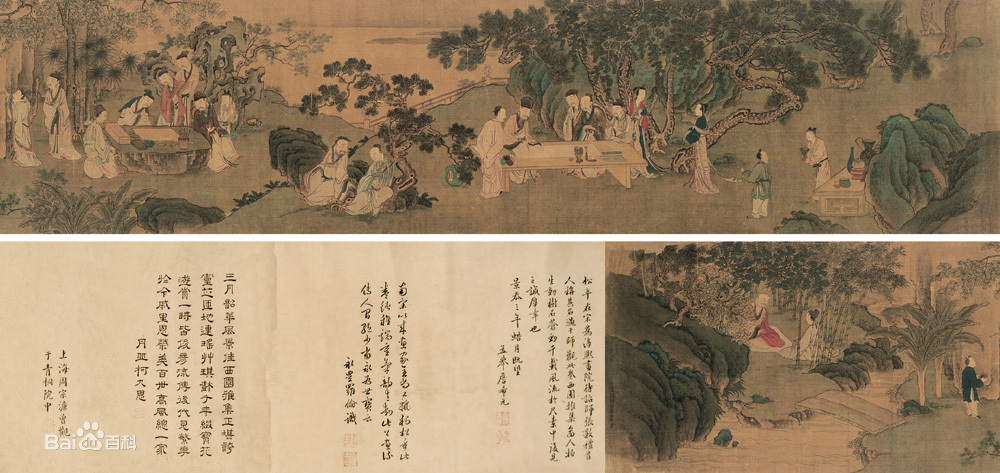bridge: (798, 383, 912, 440)
kid: (739, 145, 772, 217), (954, 355, 988, 423), (801, 124, 834, 186)
man: (39, 67, 81, 168), (473, 102, 507, 203), (352, 142, 394, 219), (304, 137, 348, 208), (794, 306, 840, 365), (10, 86, 42, 170), (188, 92, 220, 171), (87, 103, 119, 181), (151, 69, 189, 125), (606, 102, 641, 152), (502, 97, 537, 144), (170, 52, 204, 97), (561, 84, 585, 140), (122, 92, 157, 128), (581, 91, 607, 137)
monk: (736, 292, 792, 358)
pine: (664, 1, 939, 176), (434, 5, 669, 167), (306, 57, 481, 209)
table: (500, 138, 646, 197), (816, 151, 877, 220)
tree: (881, 304, 980, 410), (36, 3, 101, 145), (1, 183, 153, 238)
woman: (628, 87, 665, 173), (681, 103, 715, 191), (216, 86, 241, 177)
